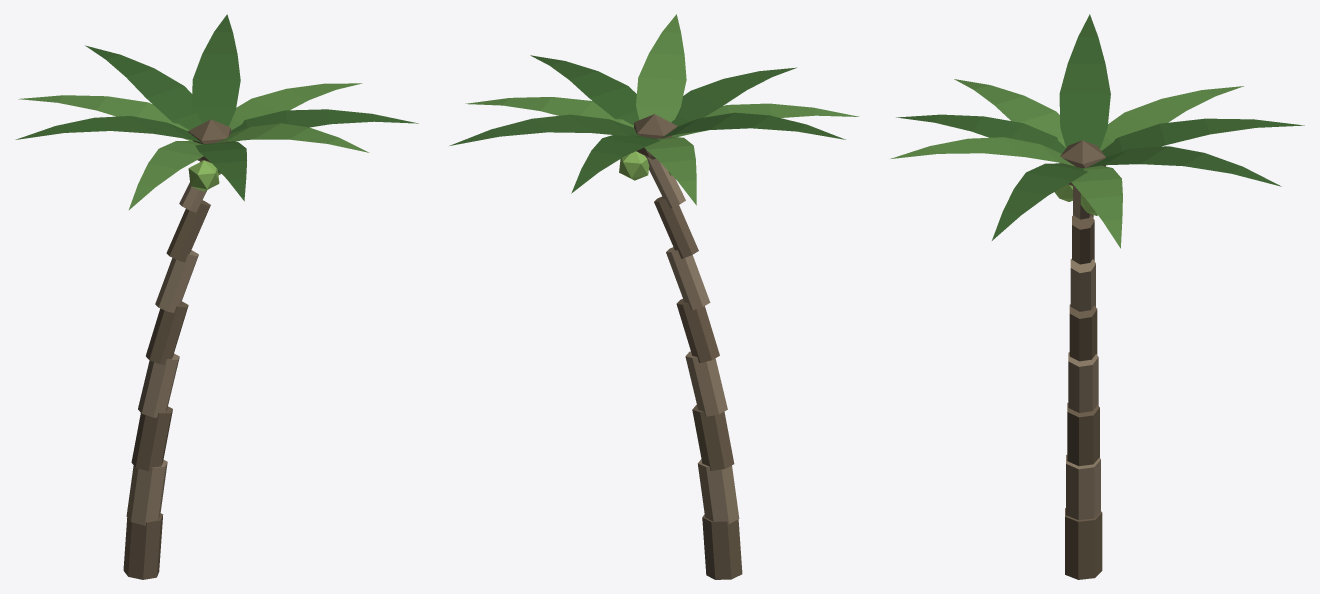
File: jungle_palm.glb
3 renders of one model, left to right at view 1: azimuth 30°, elevation 25°; view 2: azimuth 150°, elevation 25°; view 3: azimuth 270°, elevation 25°, orthographic. The views are drawn at different scales.
Parts seen in each view (by area): view 1: jungle_palm; view 2: jungle_palm; view 3: jungle_palm.
Boxes of the visible parts, box(x1,y1,x2,y2) form: jungle_palm: box(15, 14, 418, 579); jungle_palm: box(449, 14, 859, 579); jungle_palm: box(890, 14, 1304, 579).
Size of the model in its own units: 8.21 by 9.97 by 7.62.
